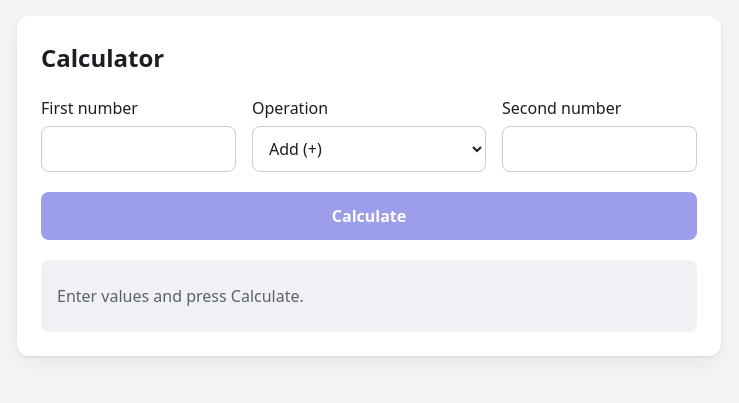
it: Calculator › shows inline validation messages and disables the button while invalid
This screenshot has width=739, height=403.
Expected: the button "Calculate" is disabled, [41,192,697,240]
Type "abc" into the field labelled "First number".
click(138, 149); type("abc")  # box [41,126,236,172]
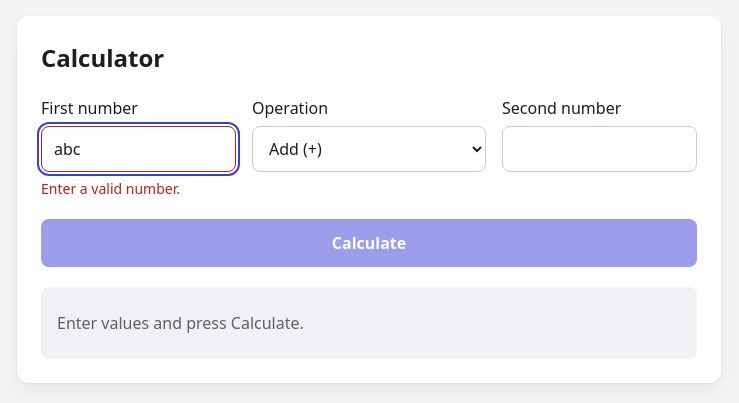
Now the text "Enter a valid number." is shown, box [41,179,180,198]
Clear the field labelled "First number" at (138, 149), box [41,126,236,172]
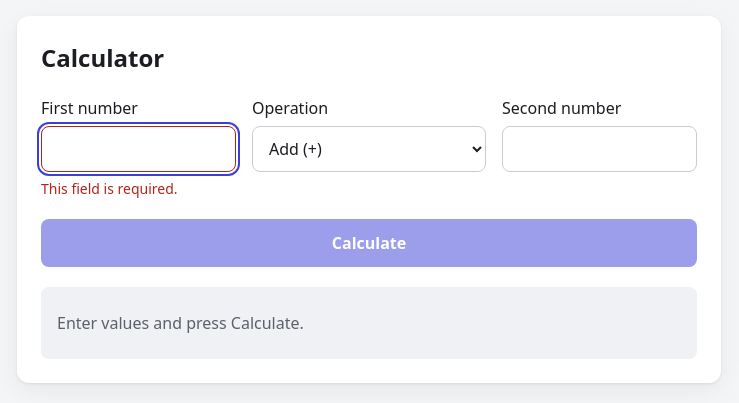
Now the text "This field is required." is shown, box [41,179,178,198]
Type "4" into the field labelled "First number".
click(138, 149); type("4")  # box [41,126,236,172]
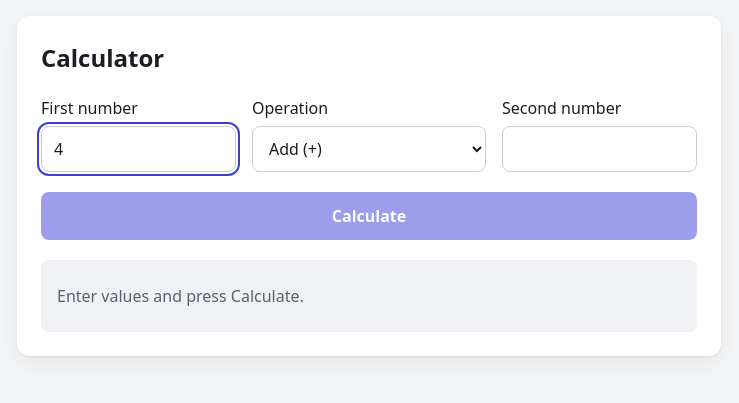
Type "2" into the field labelled "Second number".
click(600, 149); type("2")  # box [502,126,697,172]
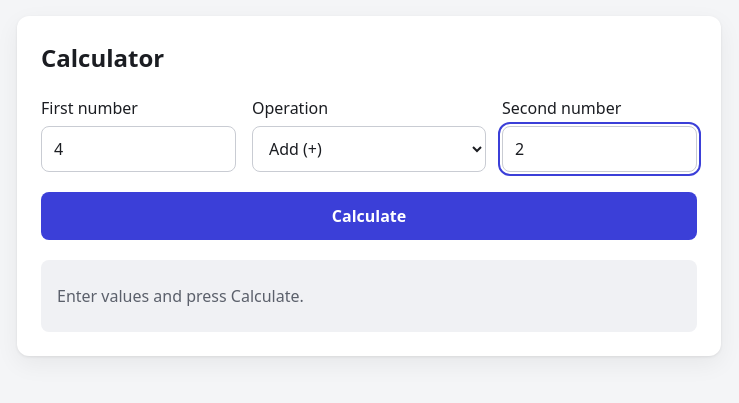
Expected: the text "This field is required." is not shown
Now the button "Calculate" is enabled, box [41,192,697,240]
